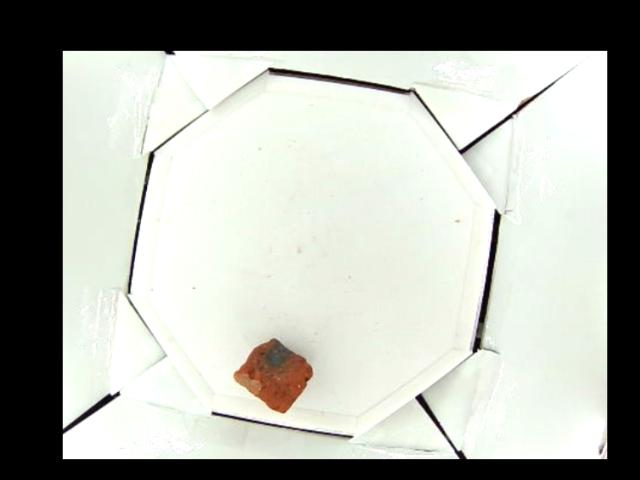Brisk: (232, 336, 314, 414)
